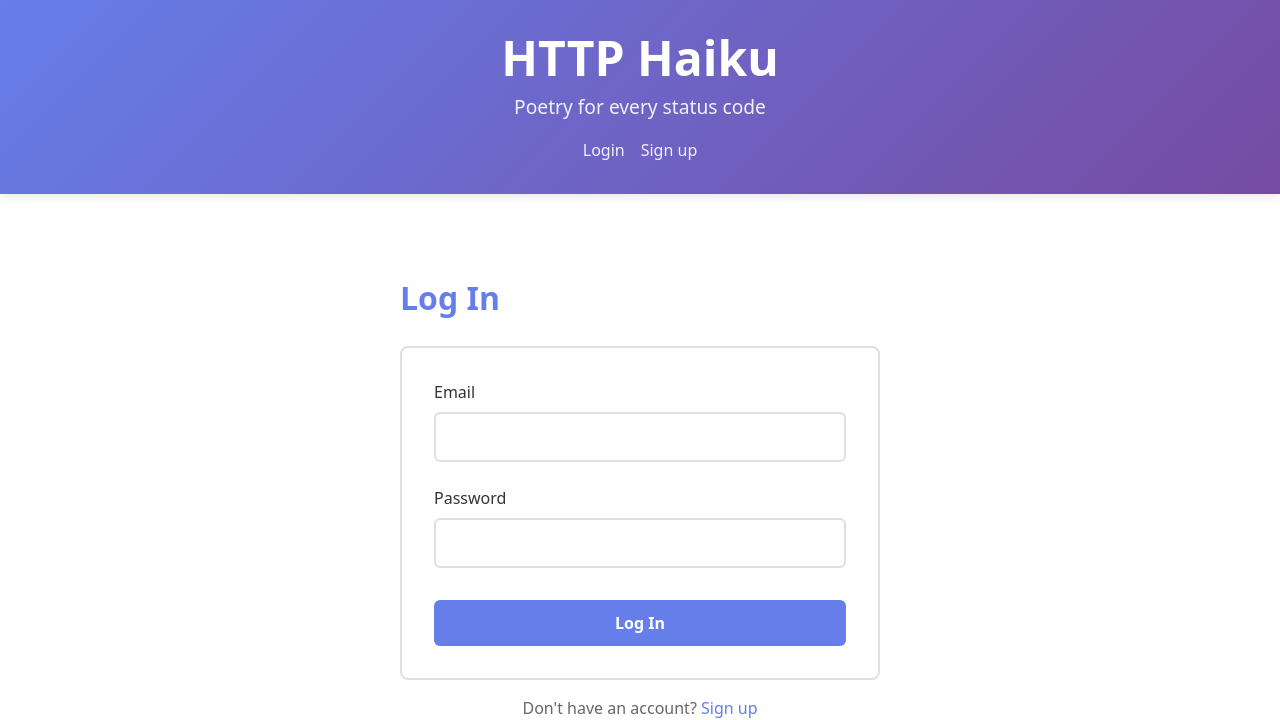
it: LoginPage › shows 'Logging in...' while pending
Step 1. Type "test@example.com" into the field labelled "Email" → coordinates (640, 437), box left=434, top=412, right=846, bottom=462
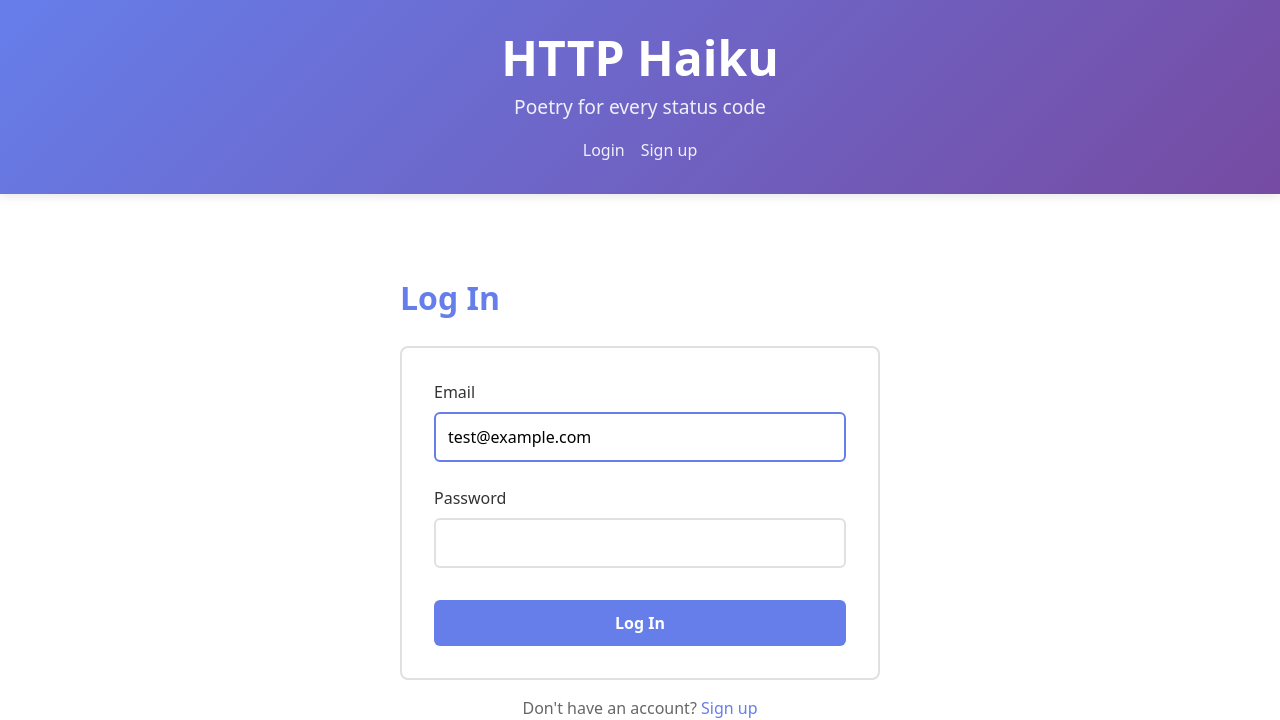
Step 2. Type "password123" into the password field labelled "Password" → coordinates (640, 543), box left=434, top=518, right=846, bottom=568
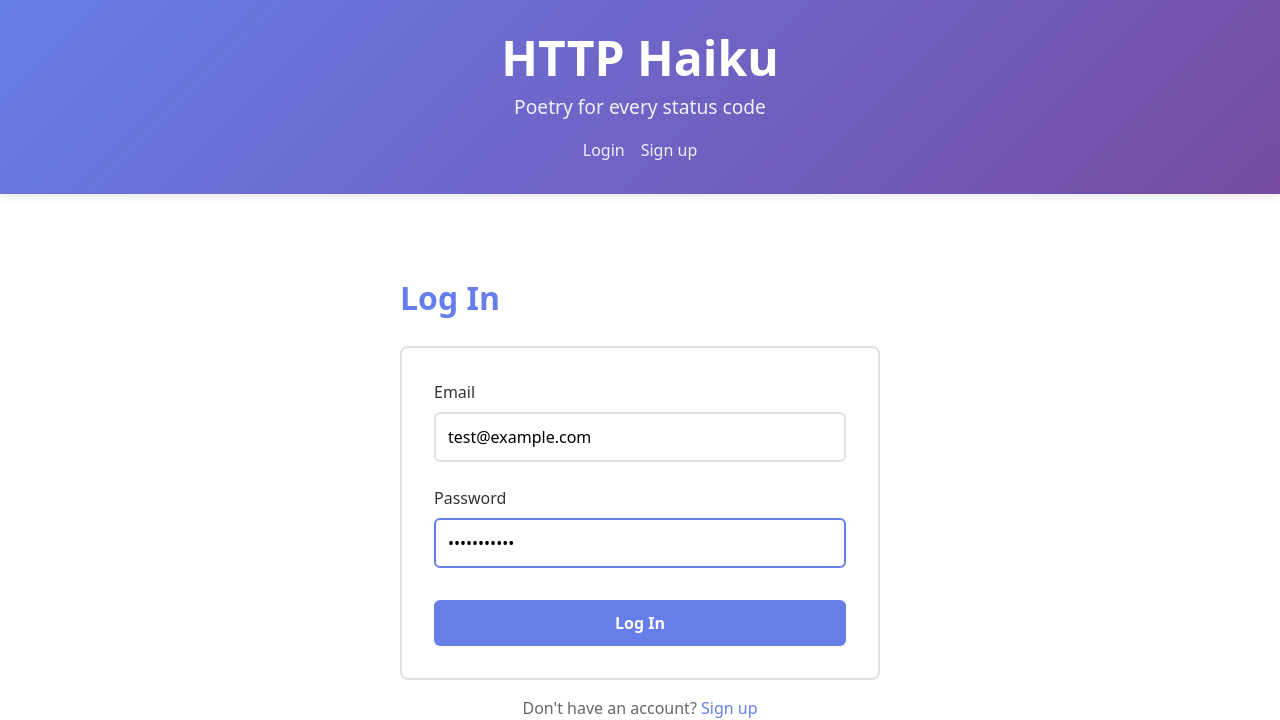
Step 3. Click the button "Log In" → coordinates (640, 623), box left=434, top=600, right=846, bottom=646
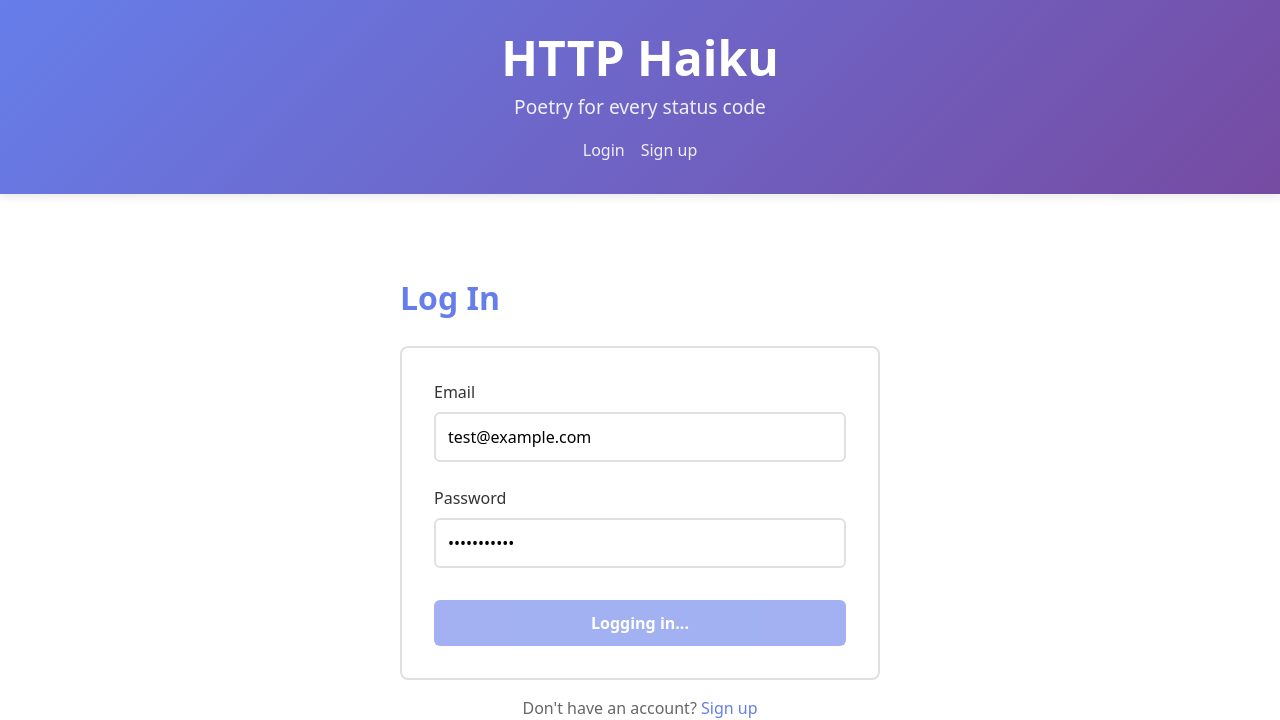
Result: the button "Logging in..." is disabled at left=434, top=600, right=846, bottom=646
